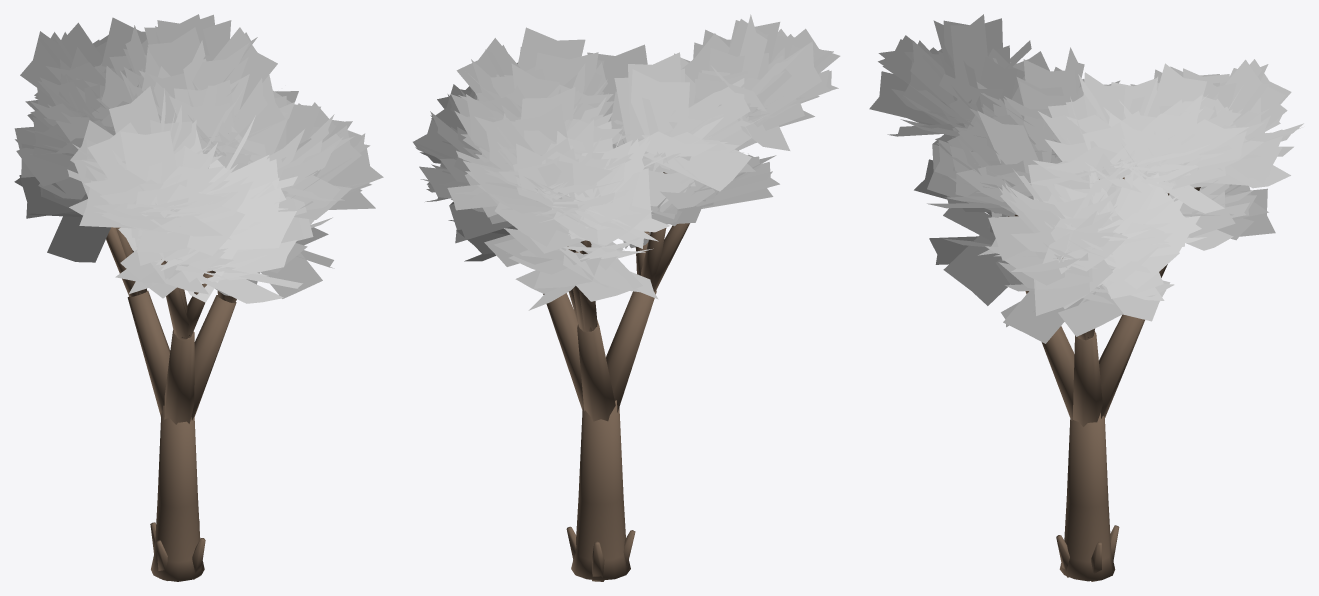
Rendered from tree_oak.glb.
3 renders of one model, left to right at view 1: azimuth 30°, elevation 25°; view 2: azimuth 150°, elevation 25°; view 3: azimuth 270°, elevation 25°, orthographic. The views are drawn at different scales.
Parts seen in each view (by area): view 1: tree_oak; view 2: tree_oak; view 3: tree_oak.
Part boxes in pixels (left/top/right/bottom): tree_oak: left=14, top=14, right=383, bottom=581; tree_oak: left=413, top=14, right=840, bottom=581; tree_oak: left=869, top=14, right=1303, bottom=581.
Size of the model in its own units: 6.87 by 10.12 by 7.83.
